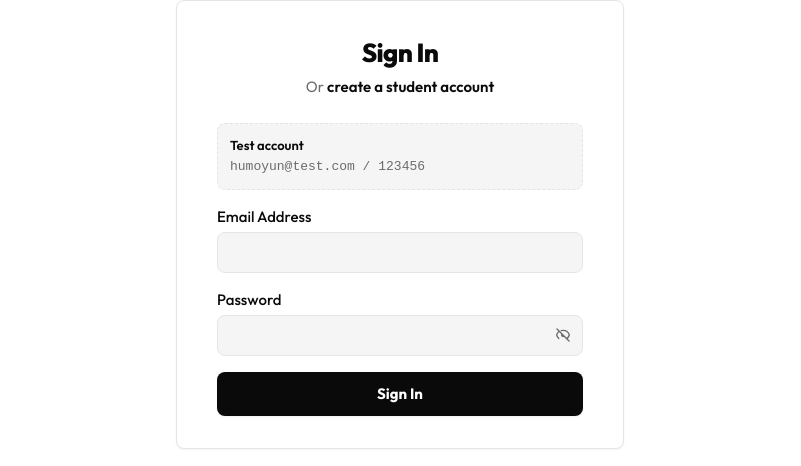
Test: AuthPanel › exam list states › shows submitted as a label, with nothing to click
Type "s@example.com" into the field labelled "Email Address" at (400, 252), box [217, 232, 583, 272]
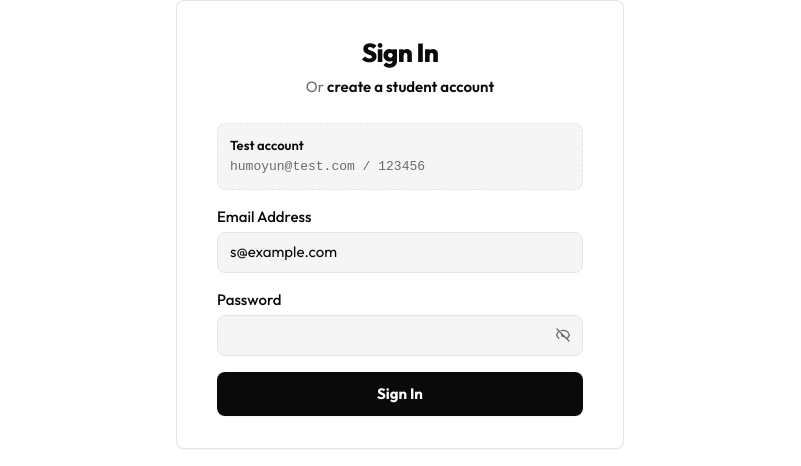
Type "Test1234!" into the password field labelled "Password" at (400, 335), box [217, 315, 583, 356]
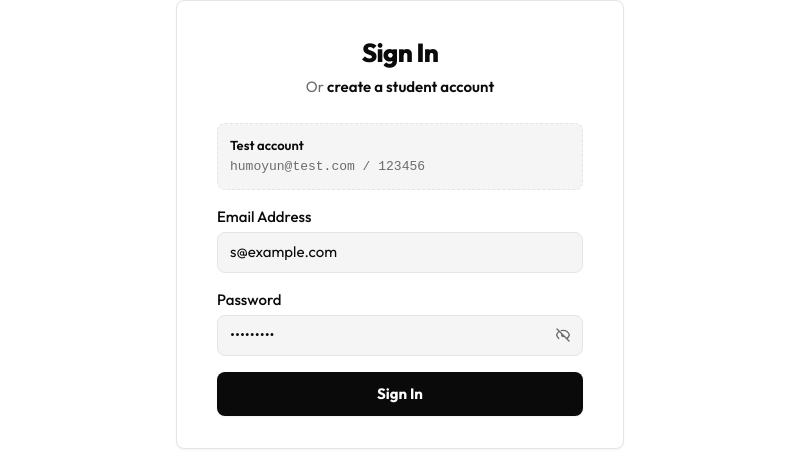
Click the button "Sign In" at (400, 394), box [217, 372, 583, 416]
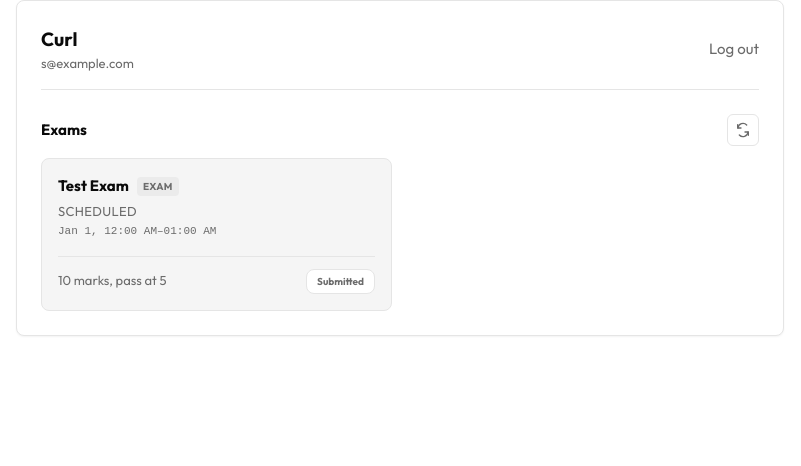
expect the heading "Test Exam" is shown: met, box [58, 175, 129, 198]
expect the text "Submitted" is shown: met, box [306, 268, 375, 294]
